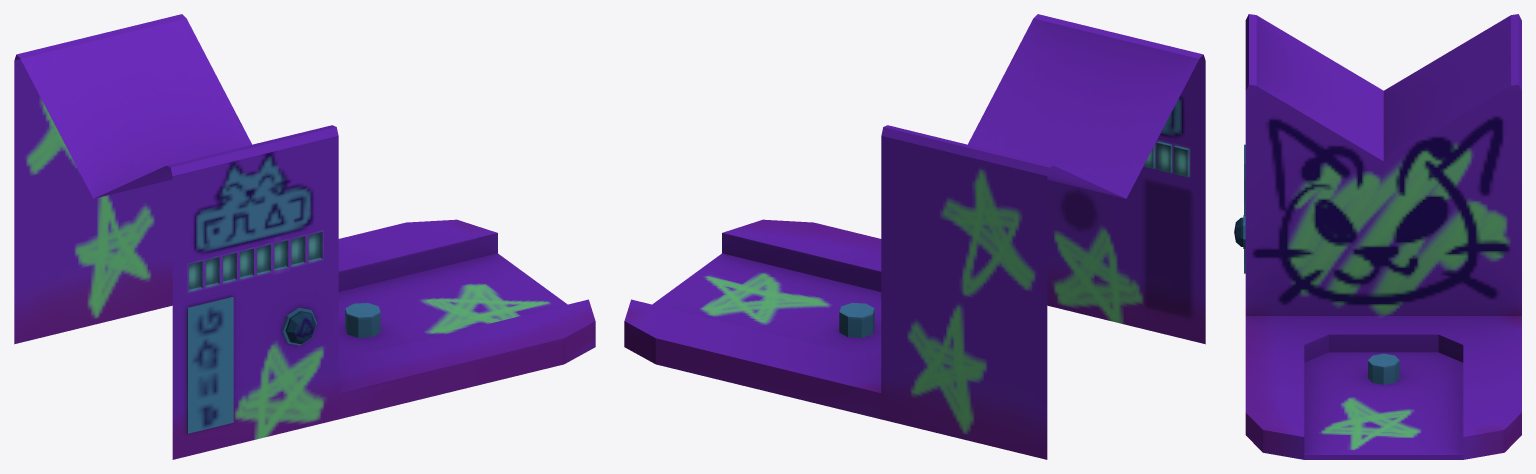
Rendered from PROP_049_VacuumCharger.fbx.
3 renders of one model, left to right at view 1: azimuth 30°, elevation 25°; view 2: azimuth 150°, elevation 25°; view 3: azimuth 270°, elevation 25°, orthographic. The views are drawn at different scales.
Parts seen in each view (by area): view 1: Cargador; view 2: Cargador; view 3: Cargador.
Boxes of the visible parts, x1,y1,x2,y2 form: Cargador: (14, 14, 595, 459); Cargador: (624, 14, 1205, 459); Cargador: (1234, 14, 1521, 459).
Bounding box in the file's own units: 1.09 × 0.6741 × 0.6914.
Materials: 1 (1 with a texture image).
